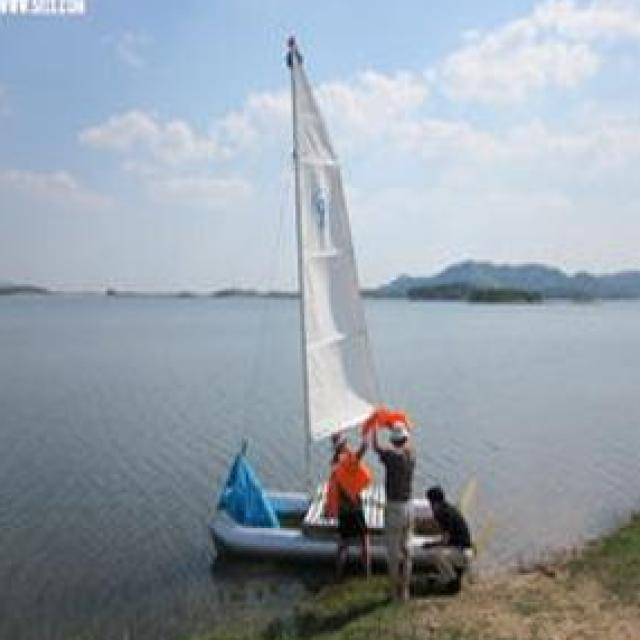sailboat: (178, 33, 476, 578)
